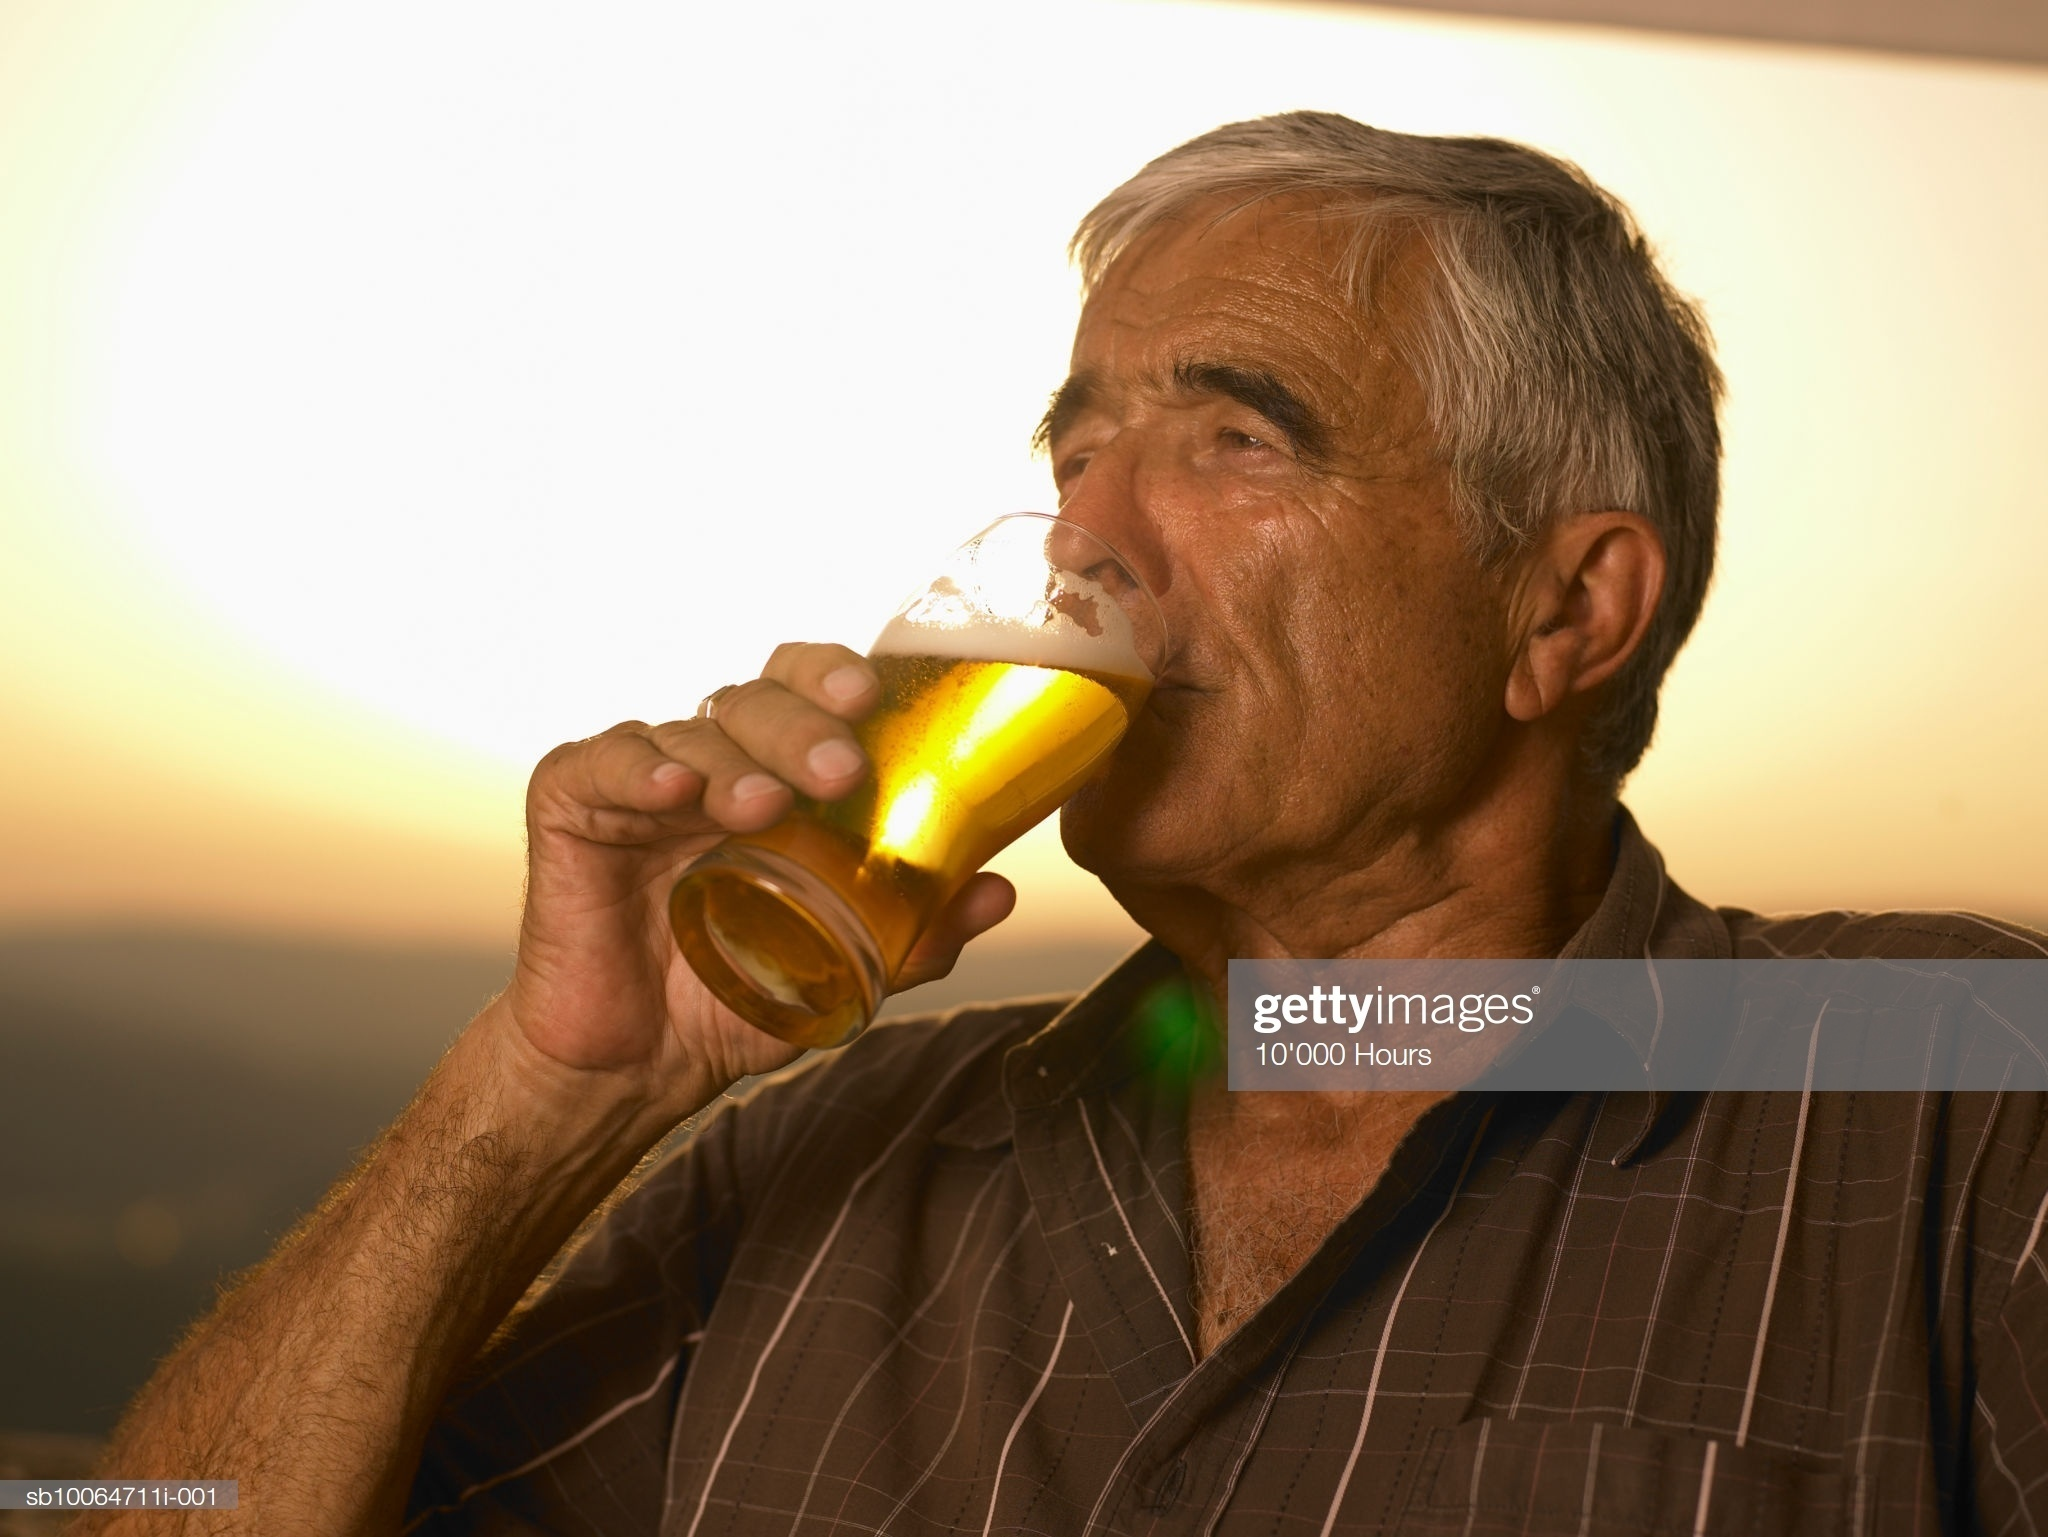whiskey: (665, 513, 1170, 1083)
